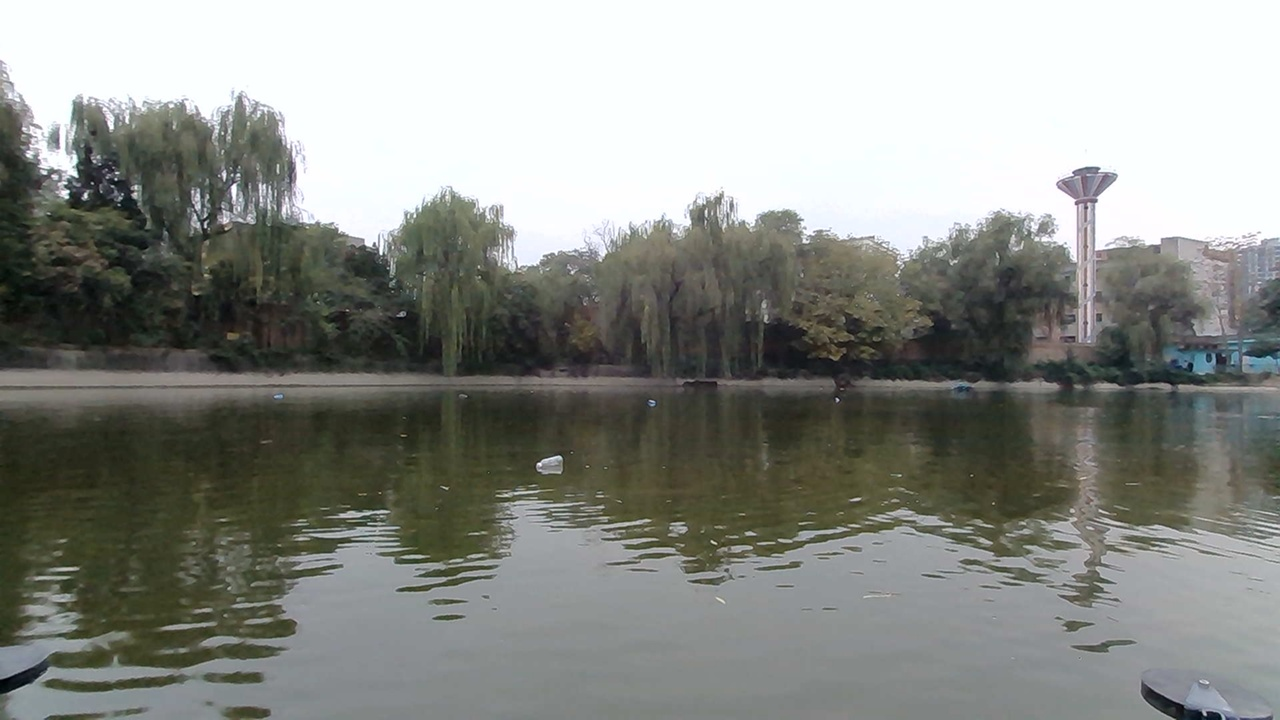bottle: (529, 451, 588, 480), (642, 398, 673, 416)
